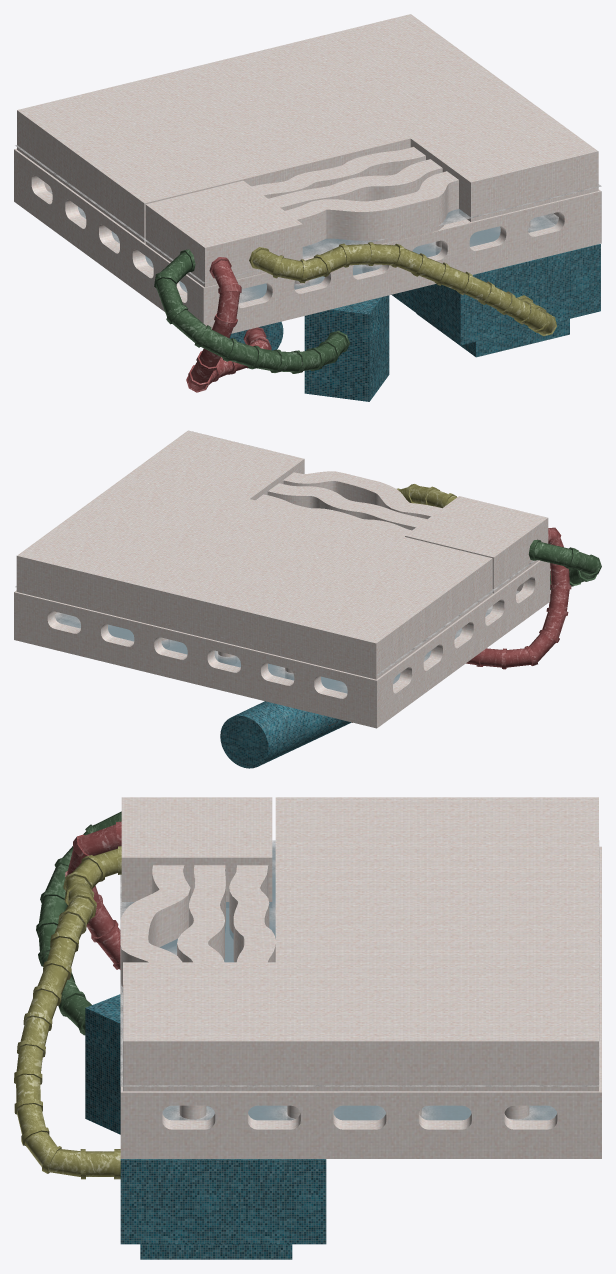
Rendered from level_37_flooded_tiled_complex.glb.
The picture shows the model from 3 angles, top to bottom: view 1: azimuth 30°, elevation 25°; view 2: azimuth 150°, elevation 25°; view 3: azimuth 270°, elevation 25°; orthographic projection. The views are drawn at different scales.
Parts seen in each view (by area): view 1: Main_White_1, Main_Blue_2, Slides_0, Cube_5, Cube.001_4; view 2: Main_White_1, Slides_0, Main_Blue_2, Cube_5; view 3: Main_White_1, Main_Blue_2, Slides_0, Cube_5, Cube.001_4.
Part boxes in pixels (left/top/right/bottom): Main_White_1: left=14, top=14, right=601, bottom=333; Main_Blue_2: left=229, top=244, right=600, bottom=401; Slides_0: left=154, top=242, right=556, bottom=392; Cube_5: left=48, top=190, right=558, bottom=303; Cube.001_4: left=15, top=145, right=601, bottom=283; Main_White_1: left=14, top=430, right=550, bottom=728; Slides_0: left=397, top=484, right=601, bottom=669; Main_Blue_2: left=220, top=701, right=351, bottom=768; Cube_5: left=54, top=591, right=519, bottom=693; Main_White_1: left=120, top=797, right=601, bottom=1158; Main_Blue_2: left=85, top=994, right=326, bottom=1259; Slides_0: left=14, top=811, right=121, bottom=1179; Cube_5: left=162, top=1105, right=556, bottom=1120; Cube.001_4: left=120, top=840, right=599, bottom=1086.
Size of the model in its own units: 36.93 by 14.53 by 33.39.
11 materials, 9 textured.
